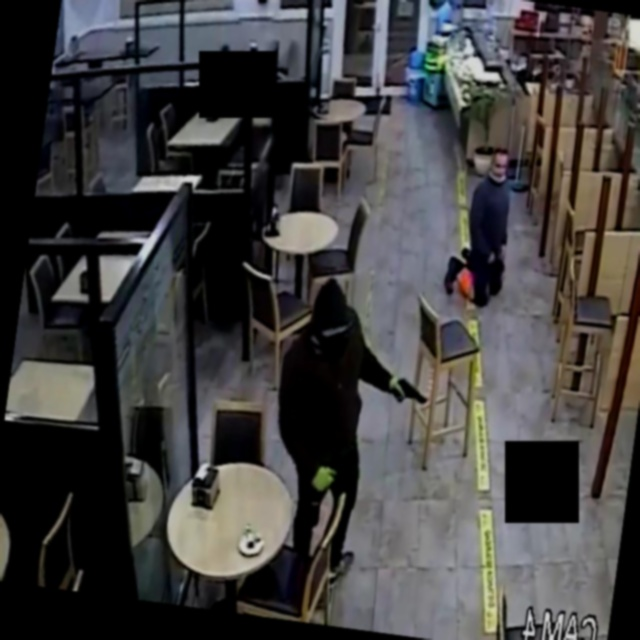gun: (375, 363, 442, 426)
